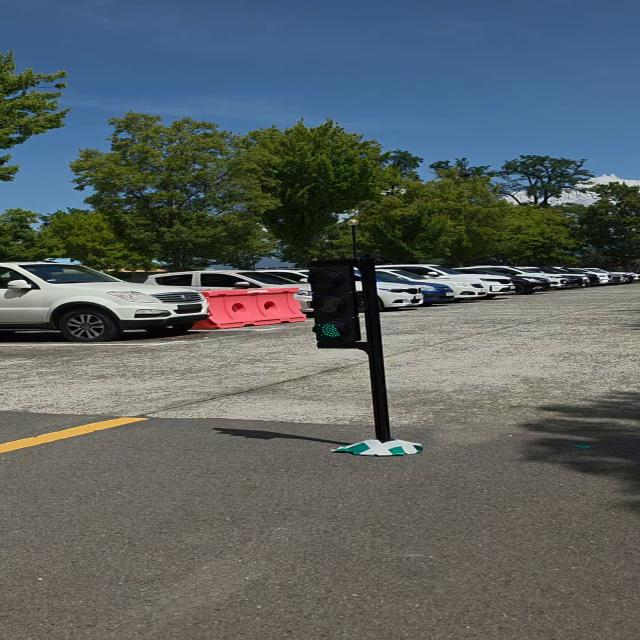green: (312, 266, 368, 346)
